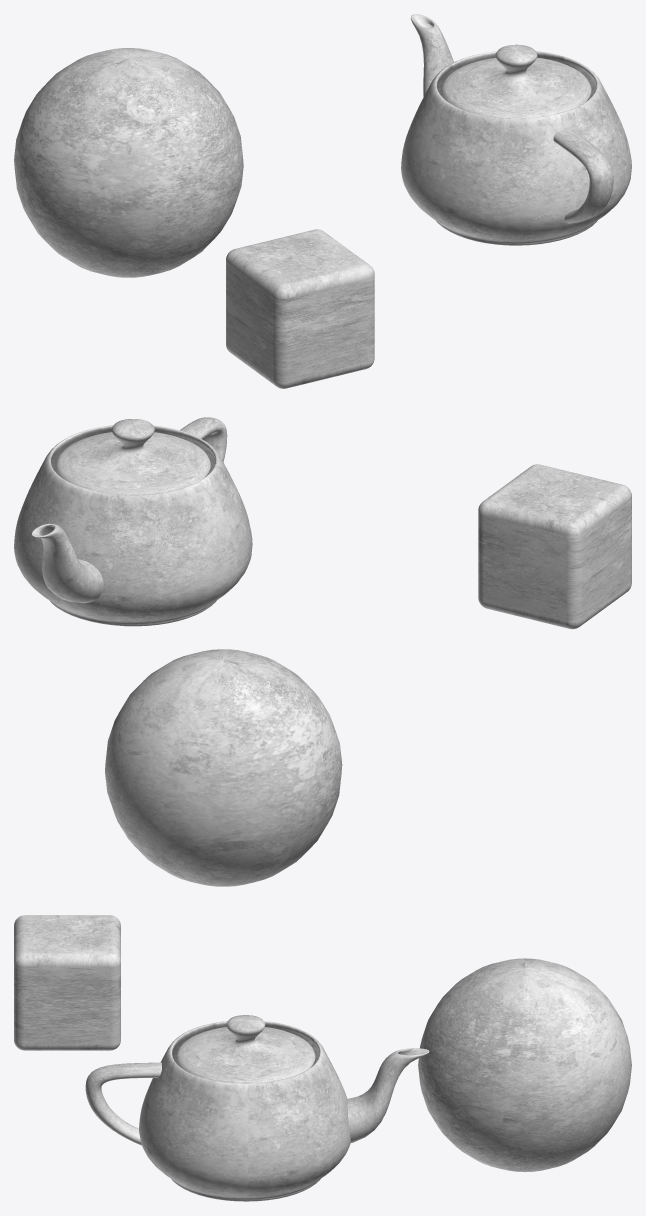
3 renders of one model, top to bottom at view 1: azimuth 30°, elevation 25°; view 2: azimuth 150°, elevation 25°; view 3: azimuth 270°, elevation 25°, orthographic. The views are drawn at different scales.
Parts seen in each view (by area): view 1: Sphere001, Teapot001, ChamferBox001; view 2: Sphere001, Teapot001, ChamferBox001; view 3: Teapot001, Sphere001, ChamferBox001.
Part boxes in pixels (x1,y1,x2,y2): Sphere001: (14,48,243,277); Teapot001: (401,14,631,245); ChamferBox001: (226,229,374,388); Sphere001: (105,649,342,886); Teapot001: (14,417,252,626); ChamferBox001: (478,464,631,629); Teapot001: (85,1015,429,1201); Sphere001: (418,958,631,1172); ChamferBox001: (14,915,120,1050).
Size of the model in its own units: 9.12 by 5.07 by 11.37.
1 material, 1 textured.
